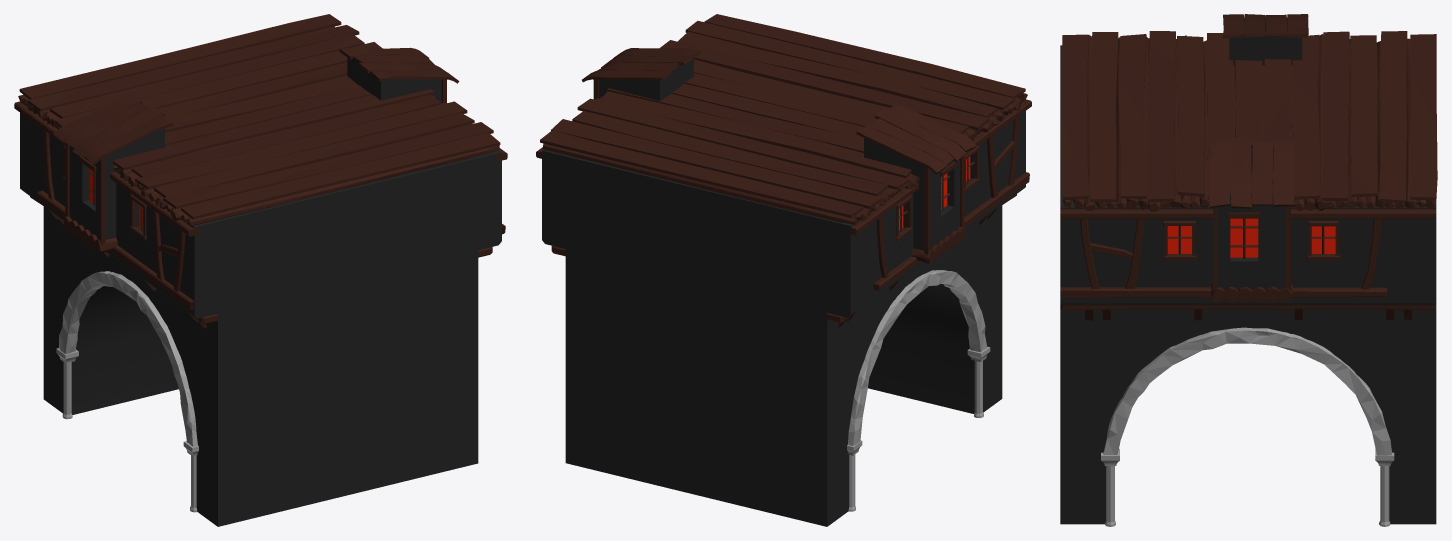
File: civilian_house_24_a.FBX
3 renders of one model, left to right at view 1: azimuth 30°, elevation 25°; view 2: azimuth 150°, elevation 25°; view 3: azimuth 270°, elevation 25°, orthographic. The views are drawn at different scales.
Parts seen in each view (by area): view 1: civilian_house_24_a; view 2: civilian_house_24_a; view 3: civilian_house_24_a.
Boxes of the visible parts, <box> form: civilian_house_24_a: <box>14,14,507,526</box>; civilian_house_24_a: <box>536,14,1031,526</box>; civilian_house_24_a: <box>1060,14,1437,526</box>.
Bounding box in the file's own units: 694 × 631 × 582.
